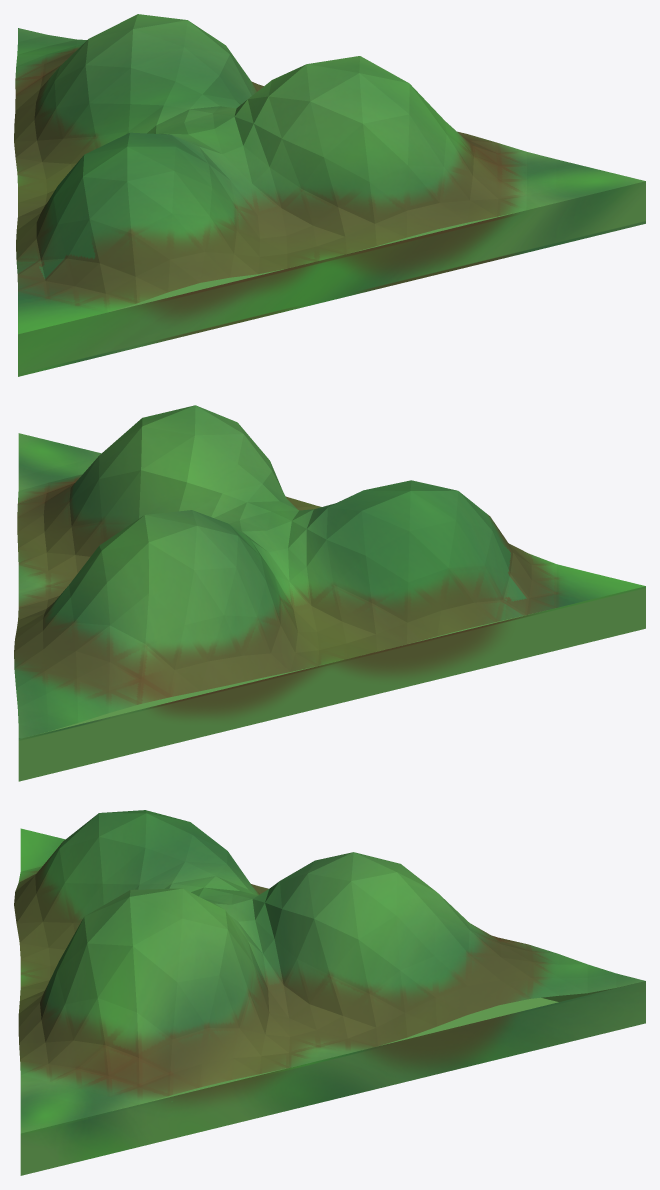
The model's file is hills.glb.
3 views of the same model, one above another, from view 1: azimuth 30°, elevation 25°; view 2: azimuth 150°, elevation 25°; view 3: azimuth 270°, elevation 25° (orthographic).
Parts seen in each view (by area): view 1: Circle; view 2: Circle; view 3: Circle.
Boxes of the visible parts, x1,y1,x2,y2 form: Circle: [14, 14, 645, 376]; Circle: [14, 405, 645, 781]; Circle: [14, 810, 645, 1175].
Bounding box in the file's own units: 1.73 × 0.4404 × 1.52.
1 material, 1 textured.
